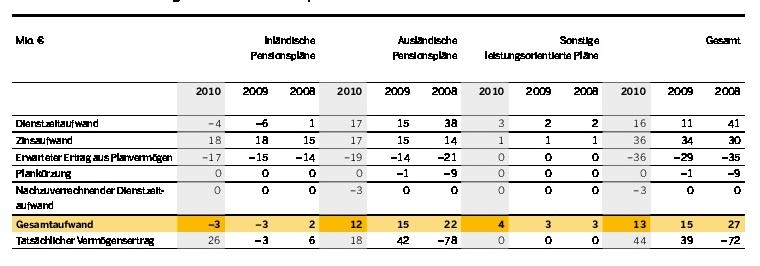table: (0, 0, 760, 266)
